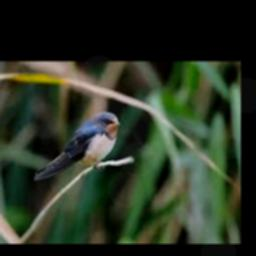Swallow: (31, 112, 119, 180)
